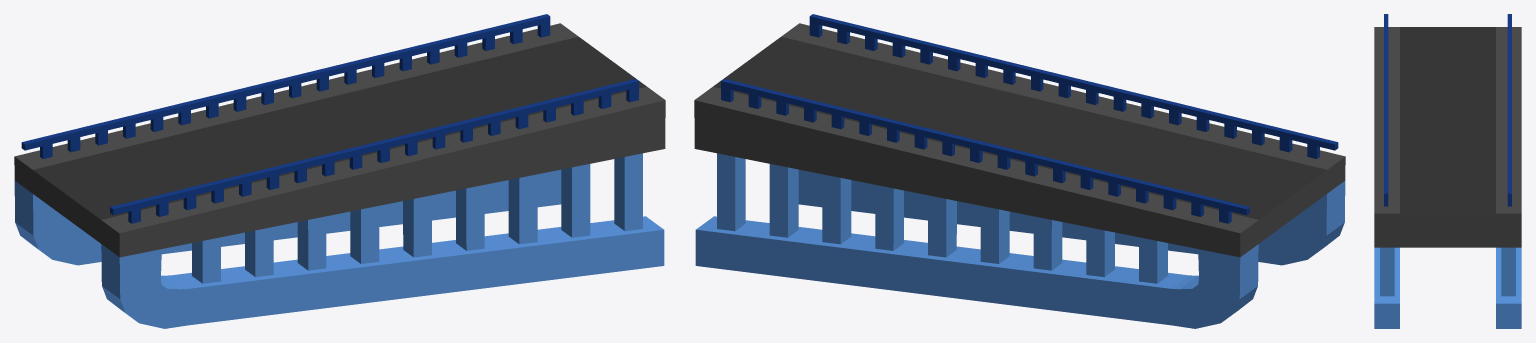
File: bridge_wing.glb
3 views of the same model, side by side, from view 1: azimuth 30°, elevation 25°; view 2: azimuth 150°, elevation 25°; view 3: azimuth 270°, elevation 25° (orthographic). The views are drawn at different scales.
Visible parts, largest first — view 1: Bridge, Cube; view 2: Bridge, Cube; view 3: Bridge, Cube.
Part boxes in pixels (left/top/right/bottom): Bridge: left=14, top=23, right=665, bottom=328; Cube: left=21, top=14, right=638, bottom=223; Bridge: left=694, top=23, right=1345, bottom=328; Cube: left=721, top=14, right=1338, bottom=223; Bridge: left=1374, top=27, right=1521, bottom=328; Cube: left=1384, top=14, right=1511, bottom=206.
Bounding box in the file's own units: 6 × 1.94 × 2.
